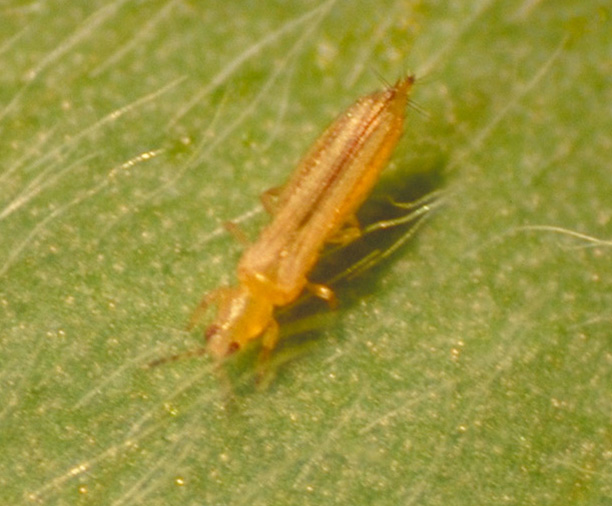Thrips: (169, 60, 438, 419)
